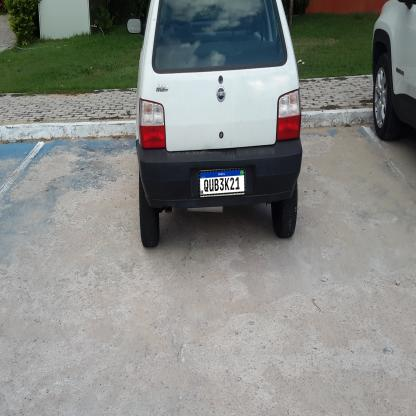PlacaM: (199, 168, 245, 196)
